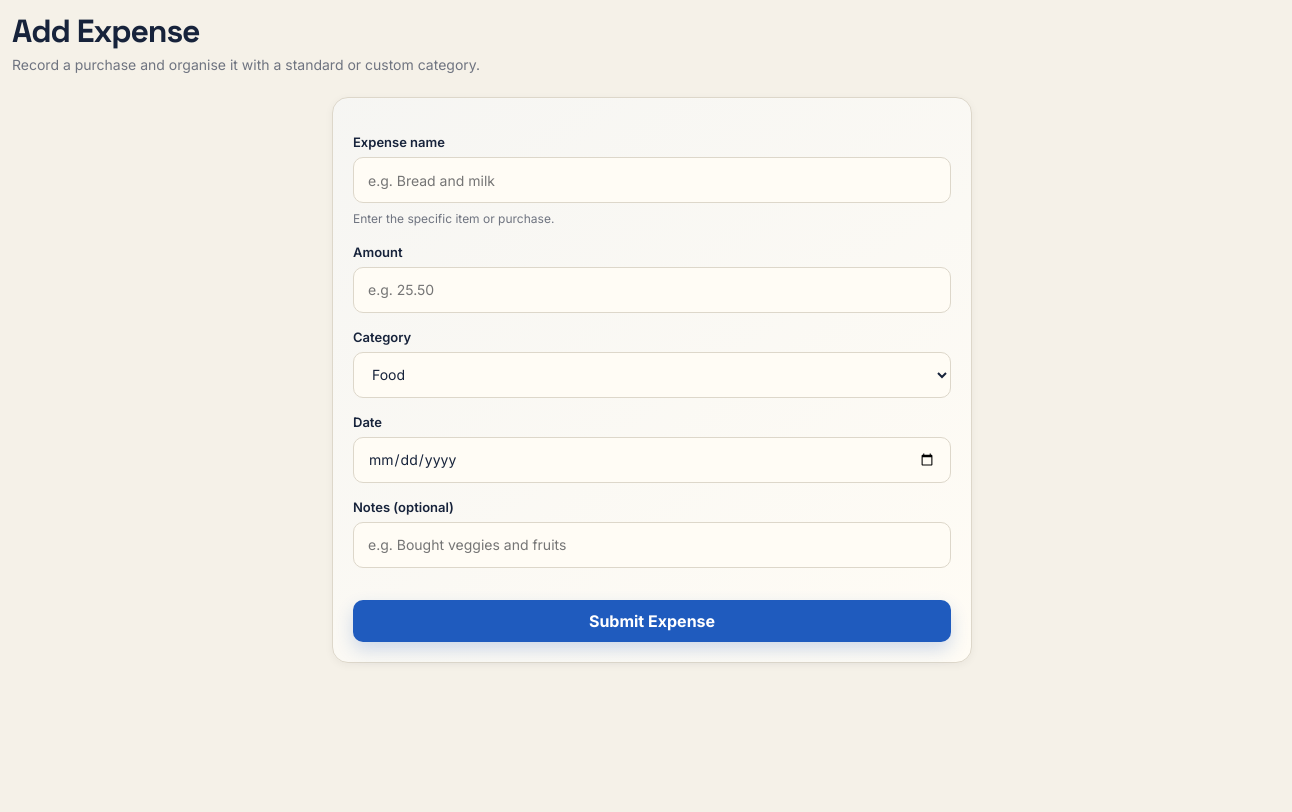
Test: shows the custom category field only when Other is selected
Expected: the field labelled "Custom category (optional)" is not shown
Select "Other / custom" in the dropdown labelled "Category": (652, 375) [353, 352, 951, 398]
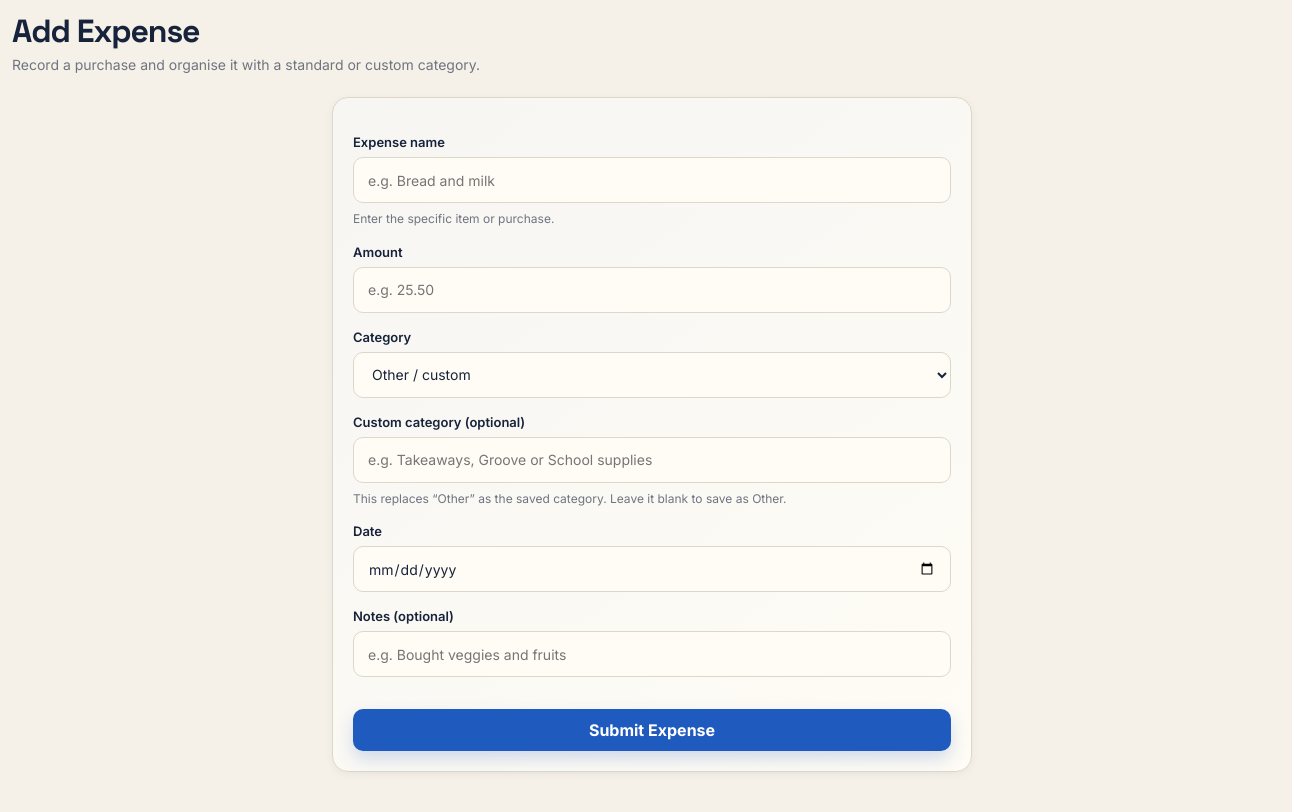
Expected: the field labelled "Custom category (optional)" is shown, [353, 437, 951, 483]
Select "Food" in the dropdown labelled "Category": (652, 375) [353, 352, 951, 398]
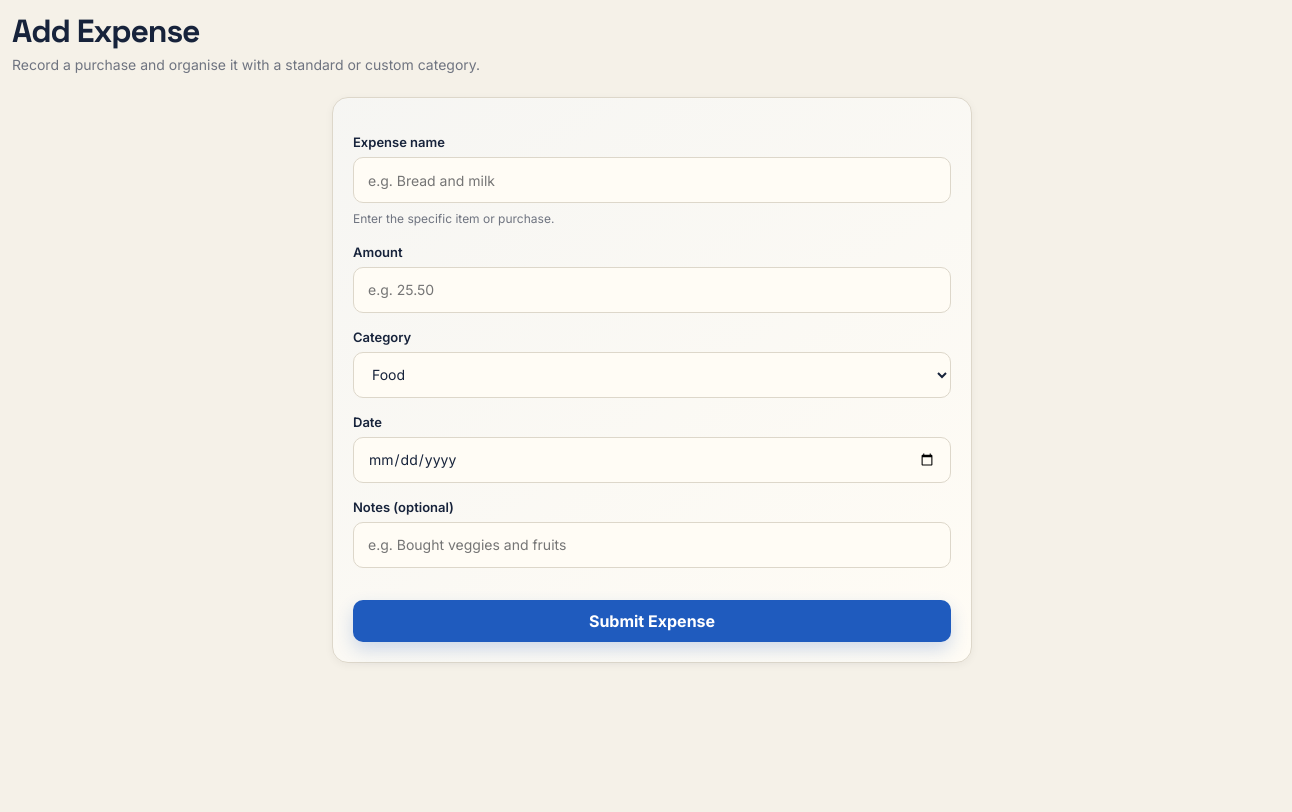
Expected: the label labelled "Custom category (optional)" is gone
